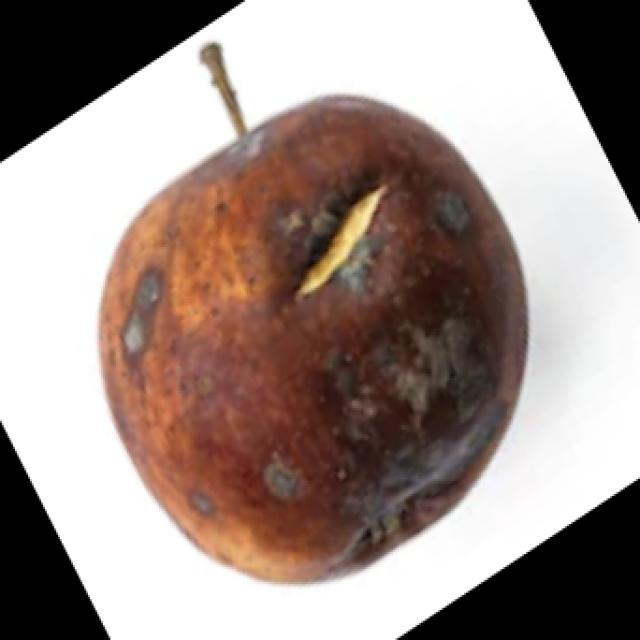Rotten: (104, 105, 518, 558)
